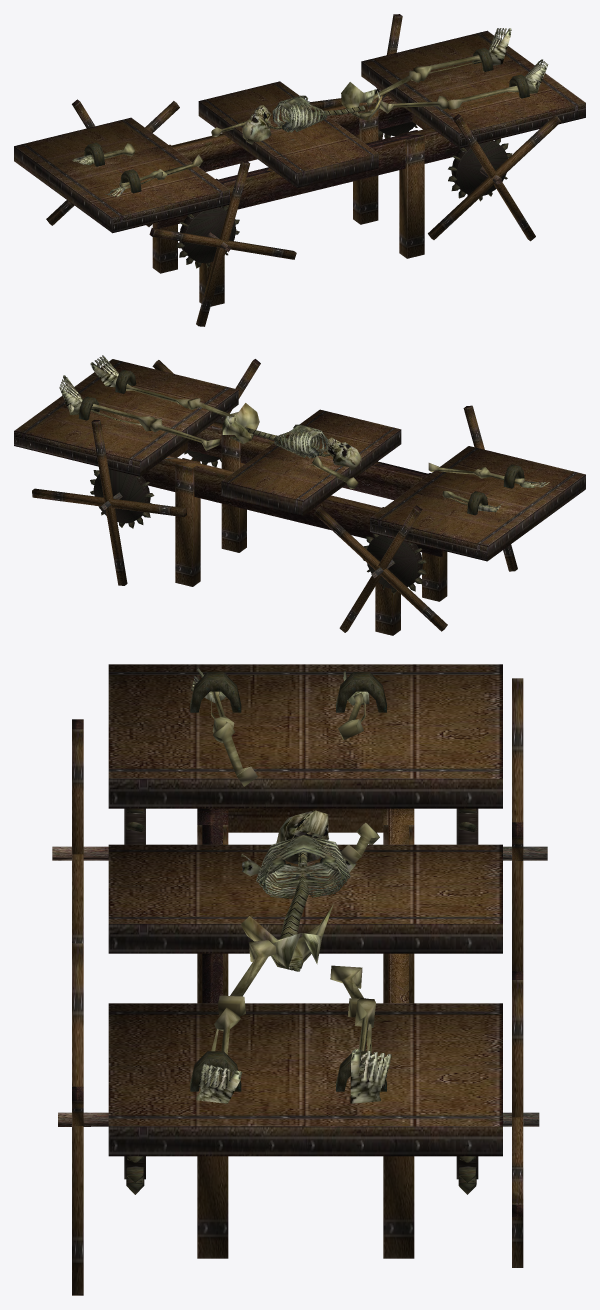
File: NW_DRAGONISLE_TORTURE_01.glb
3 renders of one model, top to bottom at view 1: azimuth 30°, elevation 25°; view 2: azimuth 150°, elevation 25°; view 3: azimuth 270°, elevation 25°, orthographic. The views are drawn at different scales.
Visible parts, largest first — view 1: Mesh; view 2: Mesh; view 3: Mesh.
Part boxes in pixels (x1=…): Mesh: x1=14, y1=14, x2=585, y2=326; Mesh: x1=14, y1=355, x2=585, y2=635; Mesh: x1=52, y1=664, x2=547, y2=1295.
Bounding box in the file's own units: 3.33 × 1.13 × 1.51.
7 materials, 7 textured.
